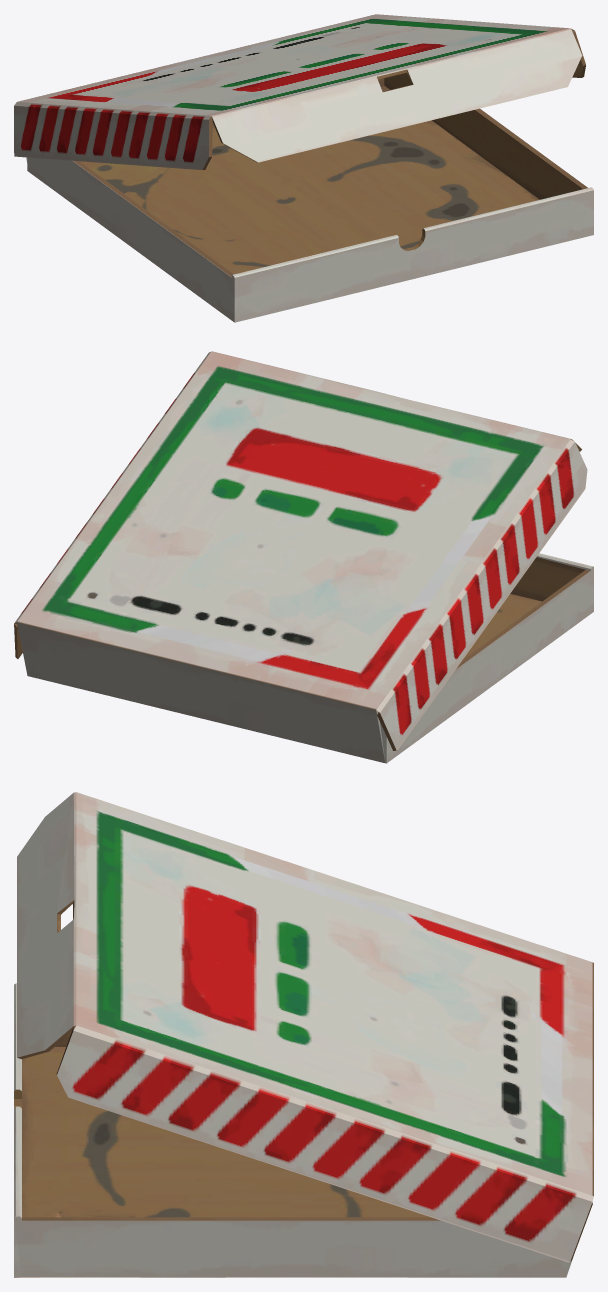
The model's file is pizza box.glb.
The picture shows the model from 3 angles, top to bottom: view 1: azimuth 30°, elevation 25°; view 2: azimuth 150°, elevation 25°; view 3: azimuth 270°, elevation 25°; orthographic projection. The views are drawn at different scales.
Bounding box in the file's own units: 2.5 × 1.19 × 2.47.
Materials: 1 (1 with a texture image).
